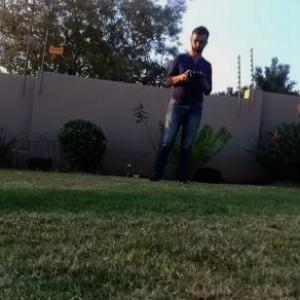follow: (142, 16, 215, 188)
